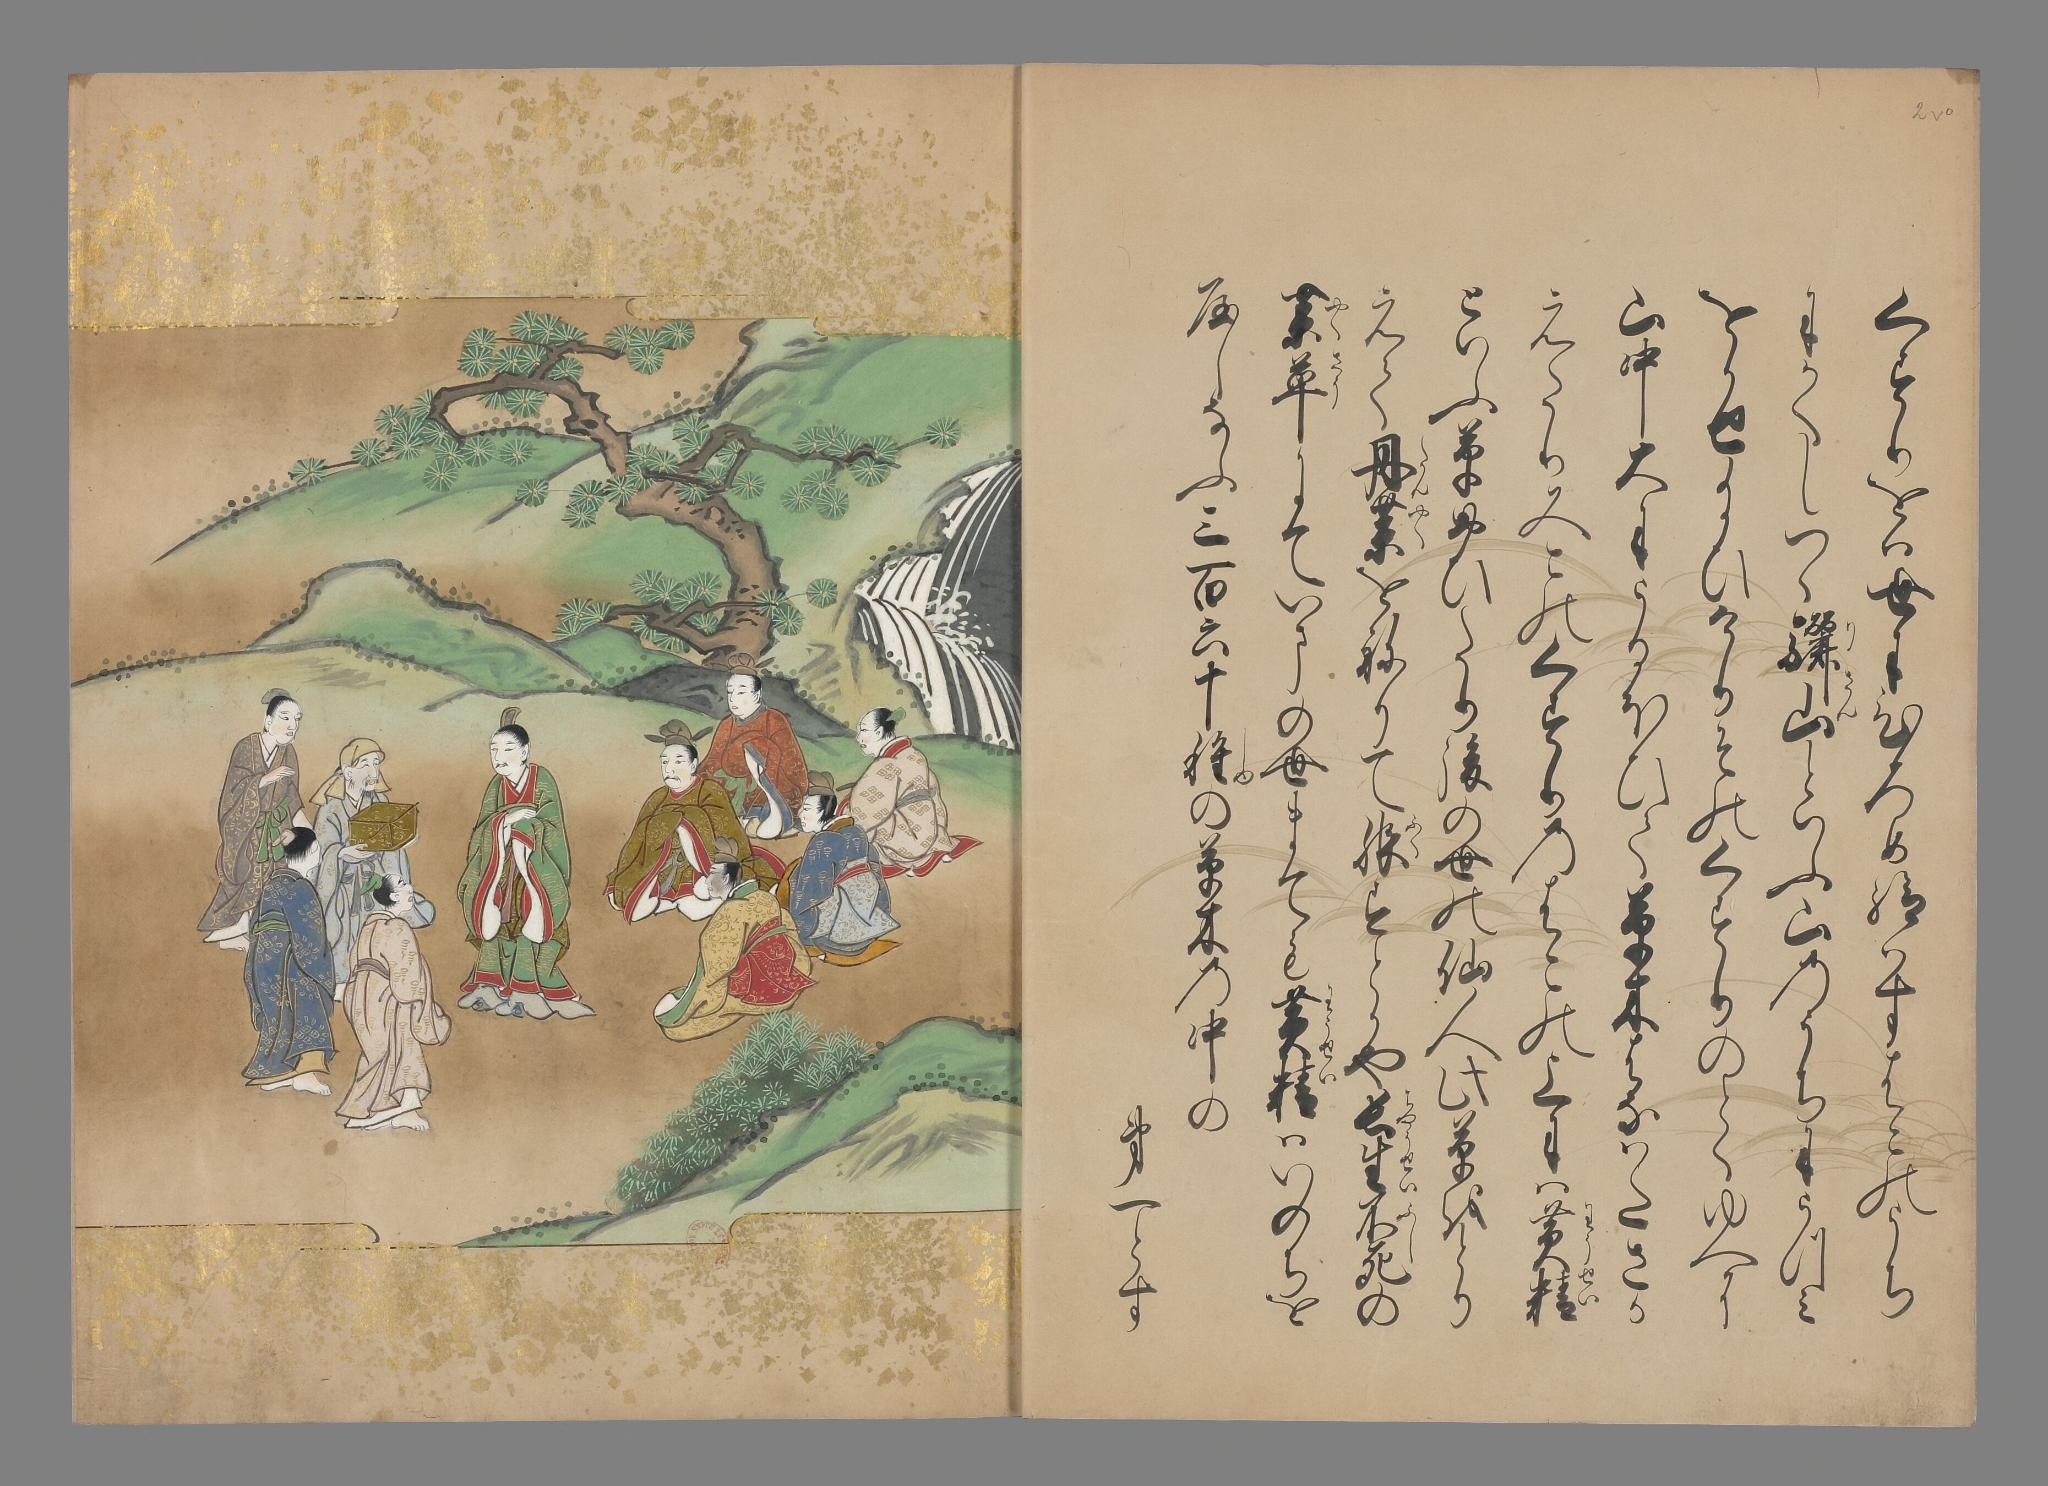MainZone-Character: (1778, 669, 1867, 747), (1770, 609, 1872, 675), (1350, 429, 1436, 501), (1267, 278, 1350, 348), (1272, 348, 1353, 415), (1523, 1198, 1600, 1268), (1356, 497, 1434, 566), (1267, 984, 1339, 1057), (1523, 1265, 1604, 1327), (1177, 731, 1258, 790), (1355, 812, 1426, 877), (1352, 1140, 1423, 1205), (1267, 1058, 1342, 1117), (1353, 1093, 1418, 1136), (1355, 1206, 1425, 1241)
MainZone-Ruby: (1409, 429, 1431, 501), (1577, 1200, 1603, 1260), (1315, 989, 1337, 1054), (1833, 674, 1859, 726), (1404, 501, 1431, 548), (1320, 288, 1345, 337), (1232, 734, 1255, 788), (1398, 1141, 1418, 1197), (1401, 812, 1425, 858), (1576, 1265, 1601, 1305), (1326, 350, 1344, 405), (1396, 1092, 1418, 1133), (1841, 615, 1860, 653), (1394, 1205, 1420, 1233), (1313, 1060, 1336, 1085)
